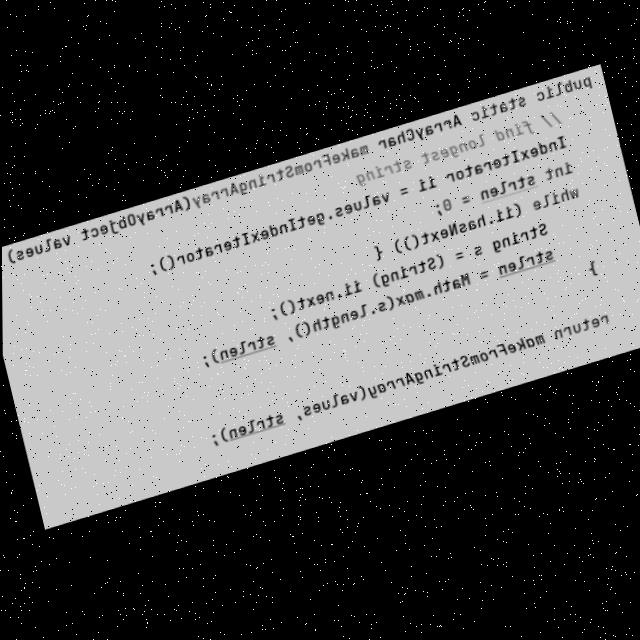code_screen: (2, 64, 640, 528)
